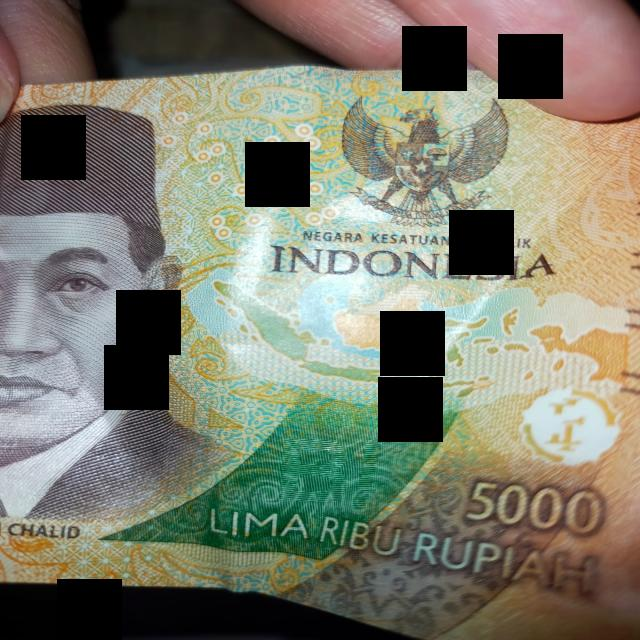lima ribu rupiah: (0, 68, 637, 640)
